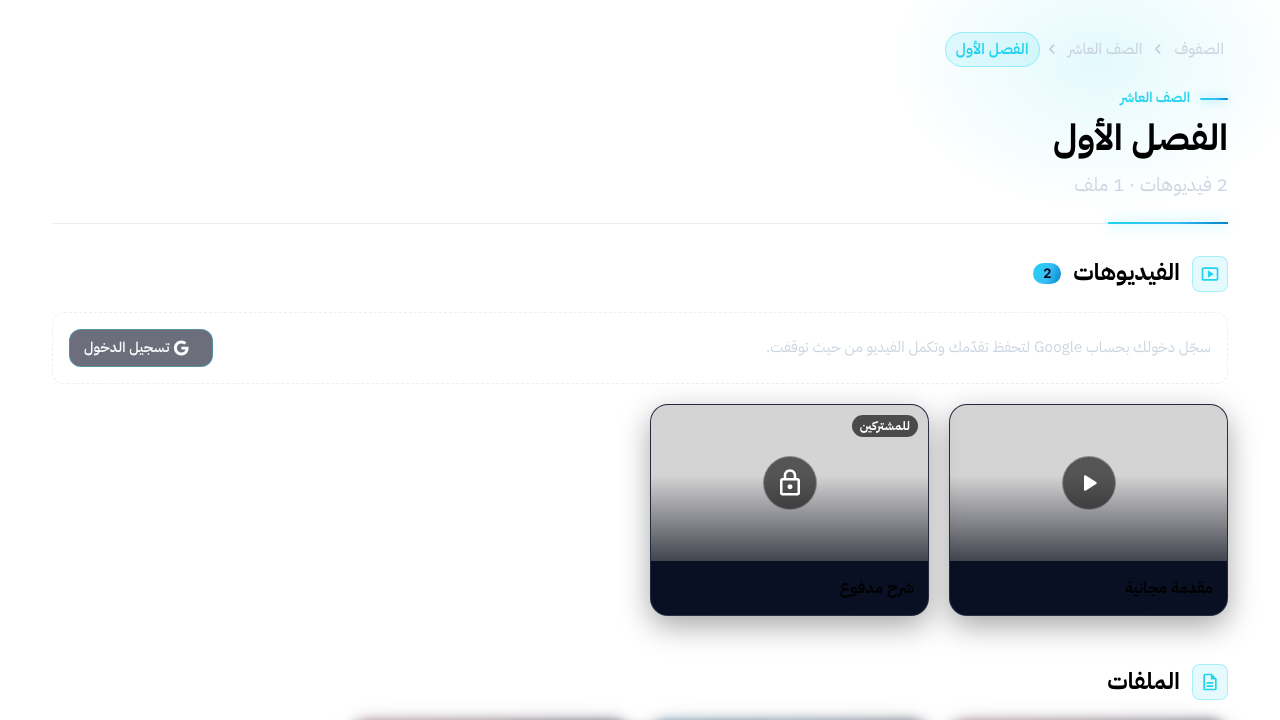
Test: paid unit (student without it) › keeps YouTube free, locks the Bunny video and opens the paywall
Click the button with aria-label "فيديو للمشتركين: شرح مدفوع".
click(790, 483)  # box [651,405,928,560]
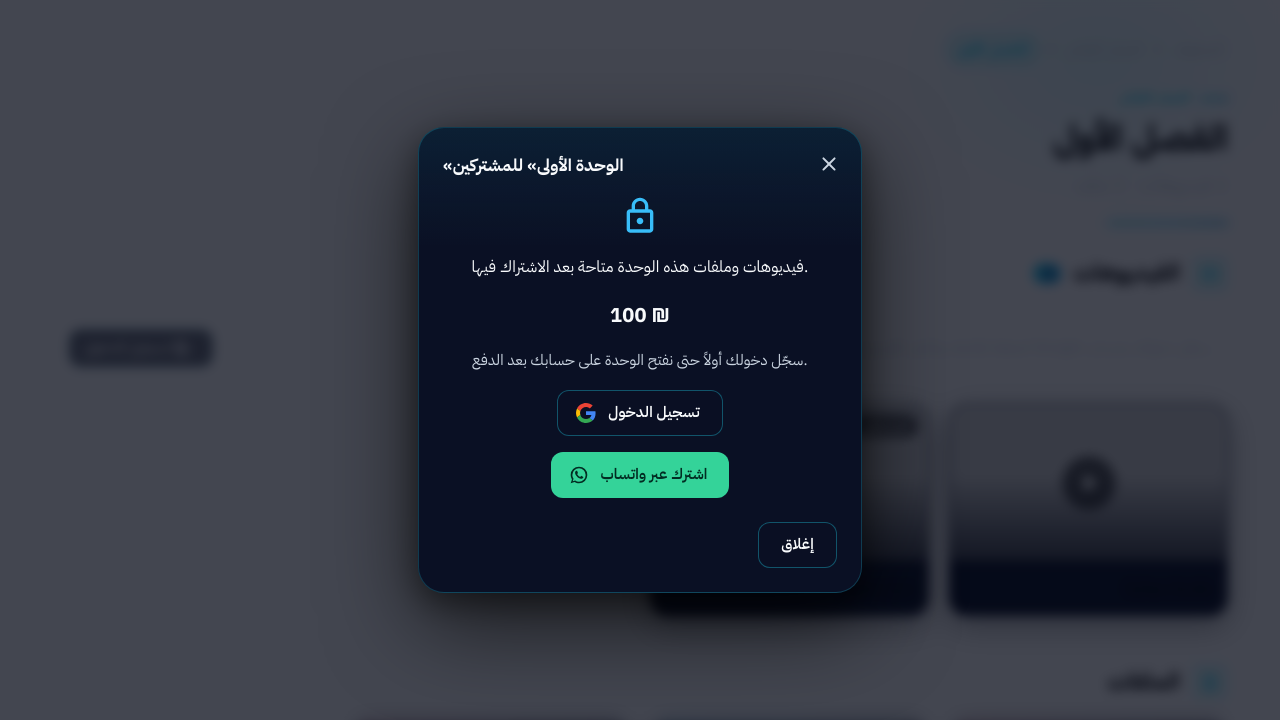
Now the text "100 ₪" is shown, box [610,299,670,331]
